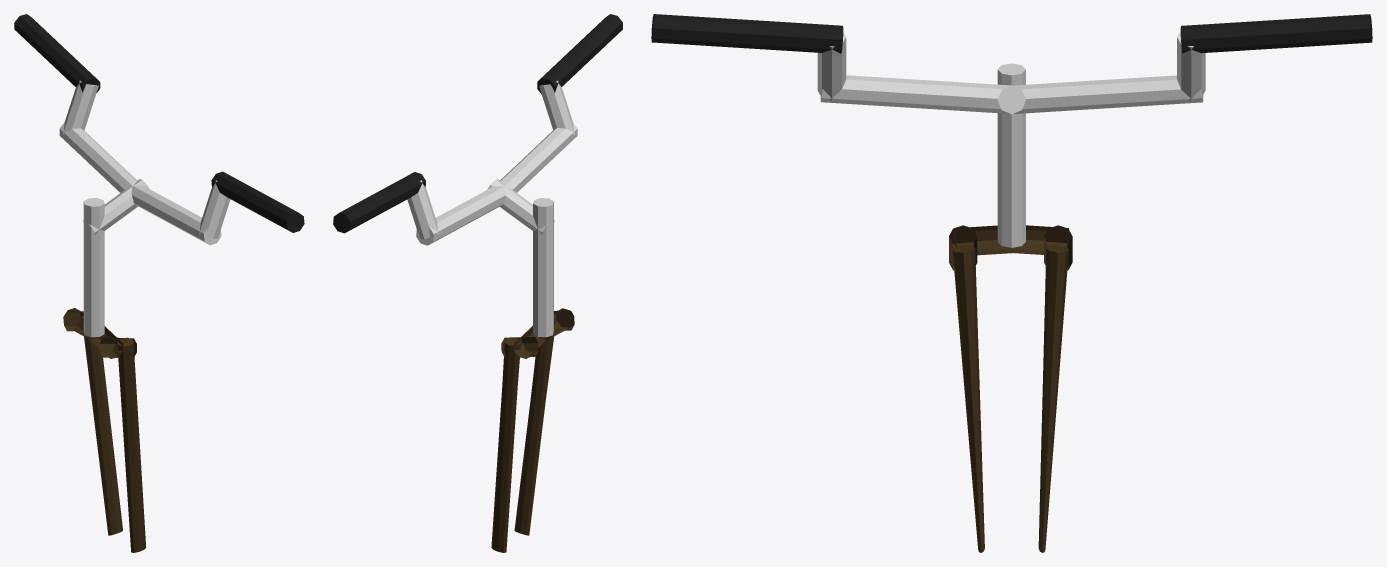
The model's file is sfork.obj.
3 views of the same model, side by side, from view 1: azimuth 30°, elevation 25°; view 2: azimuth 150°, elevation 25°; view 3: azimuth 270°, elevation 25° (orthographic). The views are drawn at different scales.
Parts seen in each view (by area): view 1: Cylinder.008_Cylinder.067, Cylinder.009_Cylinder.069, Cylinder_Cylinder.059, Cylinder.005_Cylinder.064, Cylinder.004_Cylinder.063, Cylinder.002_Cylinder.061, Cylinder.001_Cylinder.060, Cylinder.007_Cylinder.066, Cylinder.006_Cylinder.065, Cylinder.003_Cylinder.062, Cylinder.011_Cylinder.071, Cylinder.010_Cylinder.070; view 2: Cylinder.009_Cylinder.069, Cylinder.008_Cylinder.067, Cylinder_Cylinder.059, Cylinder.004_Cylinder.063, Cylinder.005_Cylinder.064, Cylinder.002_Cylinder.061, Cylinder.001_Cylinder.060, Cylinder.006_Cylinder.065, Cylinder.007_Cylinder.066, Cylinder.003_Cylinder.062, Cylinder.010_Cylinder.070, Cylinder.011_Cylinder.071; view 3: Cylinder.004_Cylinder.063, Cylinder.005_Cylinder.064, Cylinder.001_Cylinder.060, Cylinder.002_Cylinder.061, Cylinder.008_Cylinder.067, Cylinder.009_Cylinder.069, Cylinder_Cylinder.059, Cylinder.006_Cylinder.065, Cylinder.007_Cylinder.066, Cylinder.010_Cylinder.070.
Part boxes in pixels (box(x1,y1,x2,y2)): Cylinder.008_Cylinder.067: box(117, 337, 146, 552); Cylinder.009_Cylinder.069: box(81, 316, 122, 535); Cylinder_Cylinder.059: box(83, 198, 104, 337); Cylinder.005_Cylinder.064: box(14, 14, 100, 93); Cylinder.004_Cylinder.063: box(211, 171, 304, 232); Cylinder.002_Cylinder.061: box(59, 122, 136, 192); Cylinder.001_Cylinder.060: box(131, 185, 221, 245); Cylinder.007_Cylinder.066: box(62, 80, 98, 134); Cylinder.006_Cylinder.065: box(199, 180, 230, 238); Cylinder.003_Cylinder.062: box(83, 179, 149, 234); Cylinder.011_Cylinder.071: box(63, 308, 99, 340); Cylinder.010_Cylinder.070: box(85, 326, 123, 358); Cylinder.009_Cylinder.069: box(491, 337, 521, 552); Cylinder.008_Cylinder.067: box(514, 315, 556, 535); Cylinder_Cylinder.059: box(533, 198, 553, 337); Cylinder.004_Cylinder.063: box(537, 14, 622, 93); Cylinder.005_Cylinder.064: box(333, 172, 425, 233); Cylinder.002_Cylinder.061: box(416, 186, 506, 245); Cylinder.001_Cylinder.060: box(500, 123, 577, 192); Cylinder.006_Cylinder.065: box(539, 80, 574, 134); Cylinder.007_Cylinder.066: box(407, 180, 438, 238); Cylinder.003_Cylinder.062: box(487, 179, 554, 234); Cylinder.010_Cylinder.070: box(537, 308, 574, 340); Cylinder.011_Cylinder.071: box(514, 326, 551, 358); Cylinder.004_Cylinder.063: box(651, 14, 843, 53); Cylinder.005_Cylinder.064: box(1180, 14, 1372, 53); Cylinder.001_Cylinder.060: box(820, 75, 1011, 113); Cylinder.002_Cylinder.061: box(1012, 75, 1203, 113); Cylinder.008_Cylinder.067: box(952, 245, 984, 552); Cylinder.009_Cylinder.069: box(1038, 245, 1068, 552); Cylinder_Cylinder.059: box(997, 63, 1025, 247); Cylinder.006_Cylinder.065: box(817, 32, 846, 100); Cylinder.007_Cylinder.066: box(1177, 31, 1205, 100); Cylinder.010_Cylinder.070: box(954, 225, 1013, 255).
Size of the model in its own units: 0.6045 by 2.9 by 3.41.
